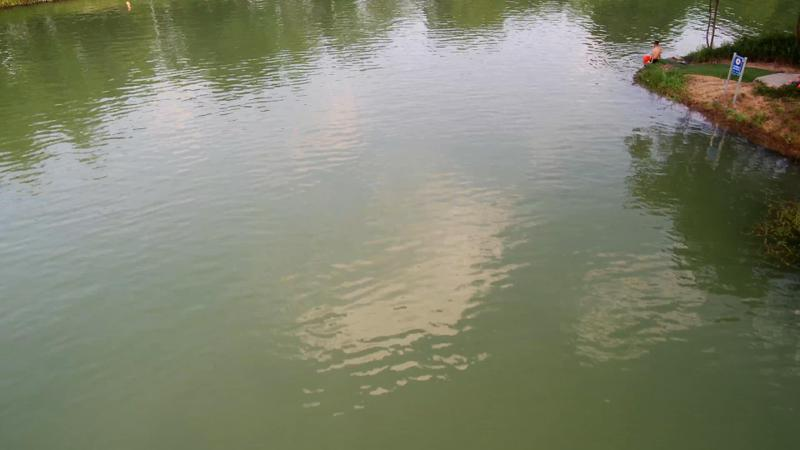sus_swimmers: (648, 40, 662, 63)
